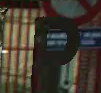Parking: (30, 9, 81, 91)
